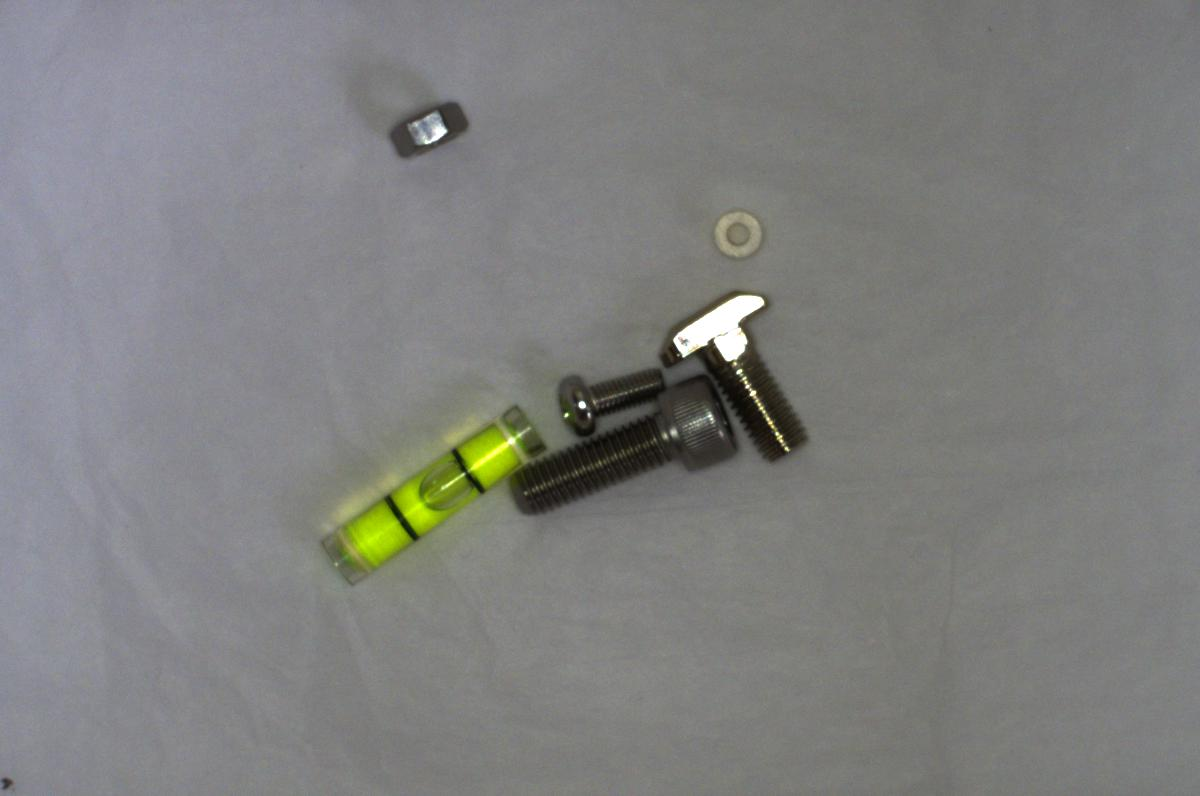Hexagon nut: (378, 94, 470, 162)
Hexagon screw: (513, 370, 747, 516)
Horizontal bubble: (310, 394, 553, 585)
Plastic cushion pillar: (706, 199, 766, 260)
Round head screw: (552, 360, 673, 429)
T-shaped screw: (657, 279, 818, 470)
